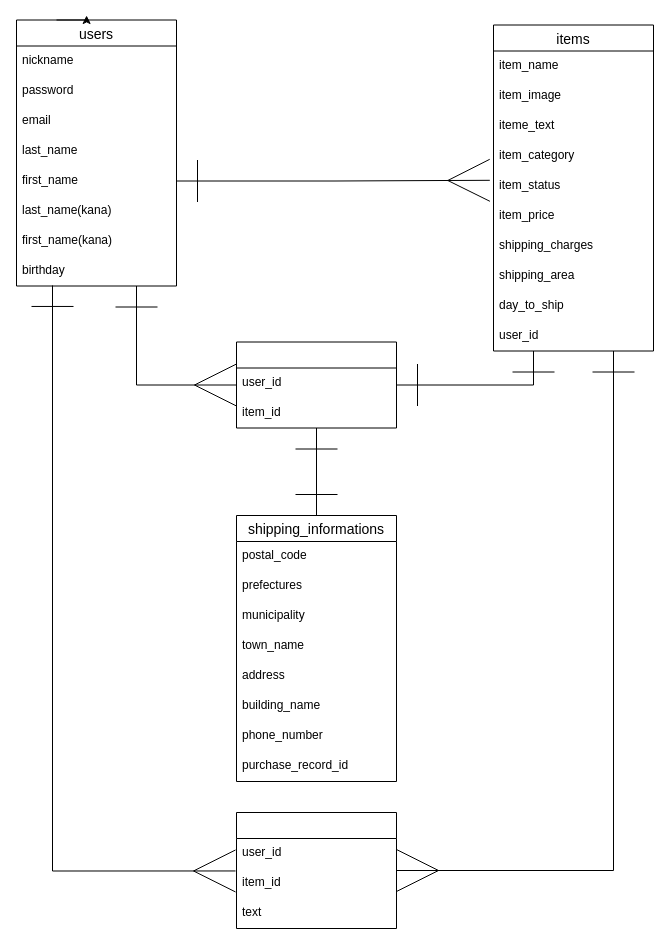
Some shapes in this 670 by 945 pixel diagram are drawn without their labels. Here are the shapes that lost their labels. From the top down, the box of each, then its label:
(236, 341, 396, 428): purchase_records
(236, 812, 396, 928): comments
